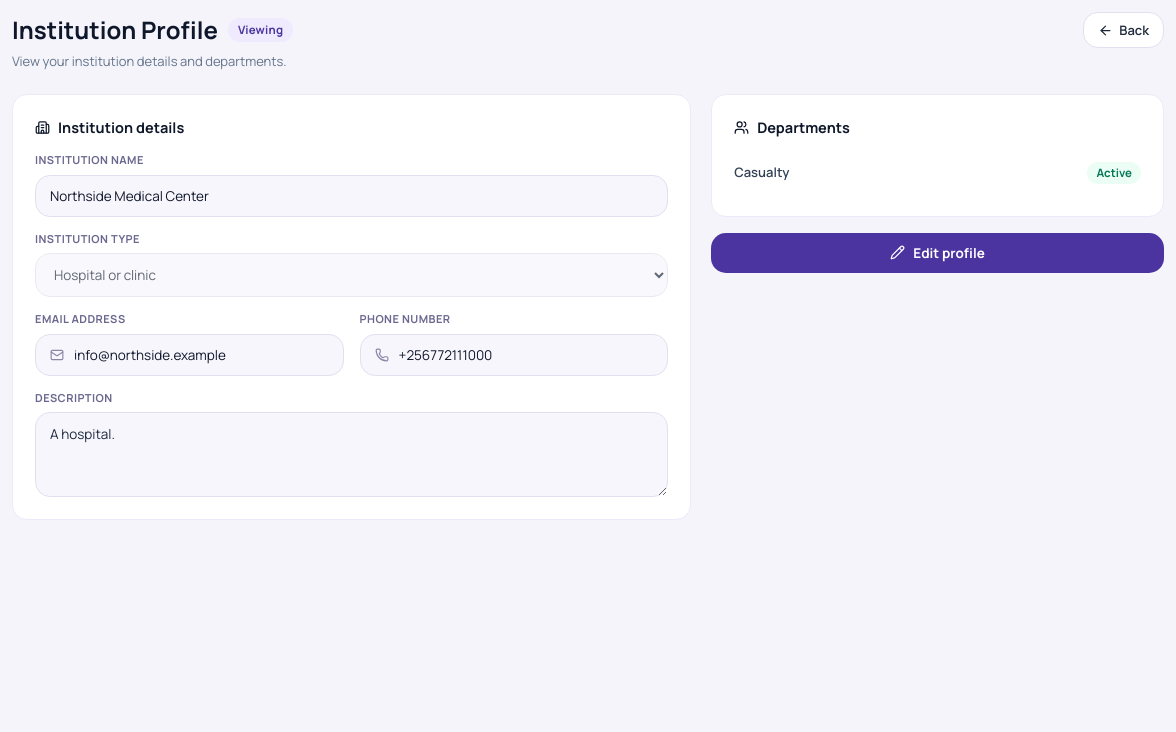
Test: InstitutionProfilePage › Edit profile unlocks the details and the department controls
This screenshot has width=1176, height=732.
Click the button "Edit profile". click: (938, 252)
box: [711,232,1164,272]
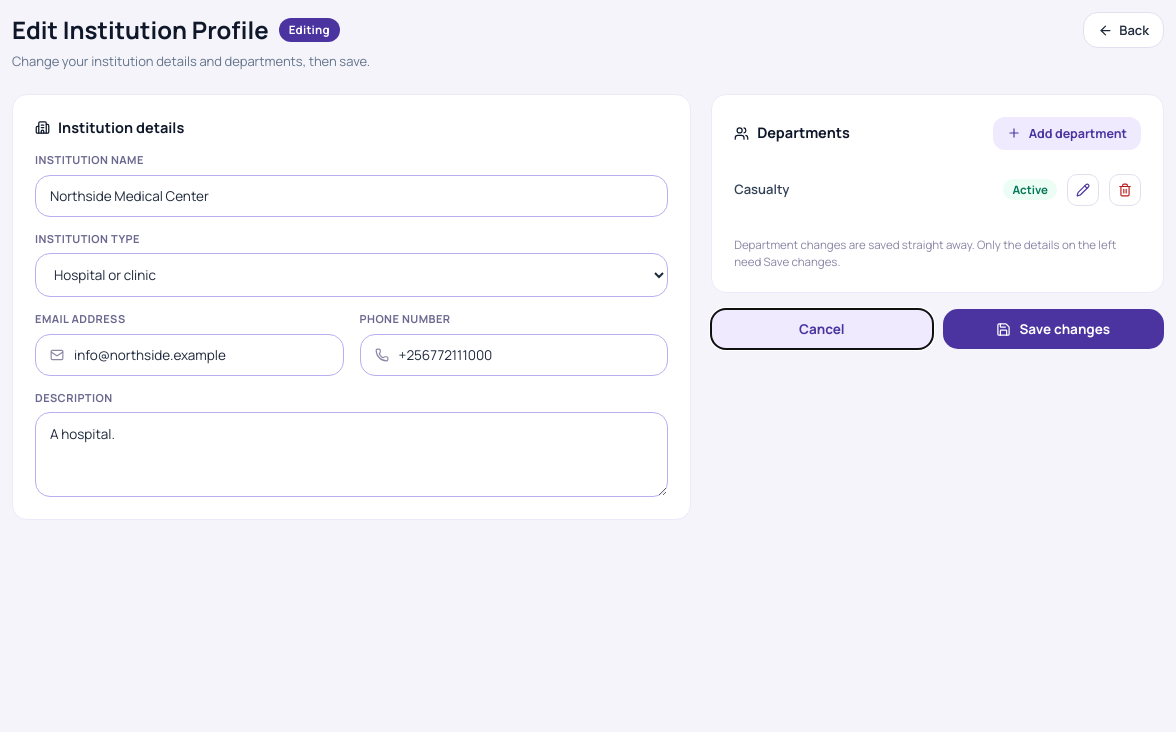
Expected: the text "Editing" is shown, [279,18,340,42]
Expected: the button "Add department" is shown, [993,116,1141,150]
Expected: the button named "Edit Casualty" is shown, [1067,174,1099,206]
